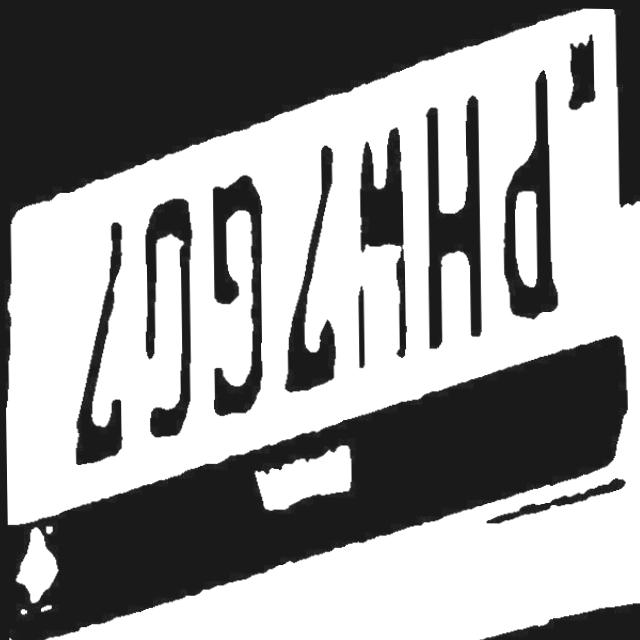0: (122, 195, 197, 441)
7: (60, 199, 138, 473), (277, 131, 343, 403)
g: (196, 170, 273, 424)
h: (413, 93, 490, 353)
p: (496, 59, 564, 322)
w: (346, 124, 412, 374)
